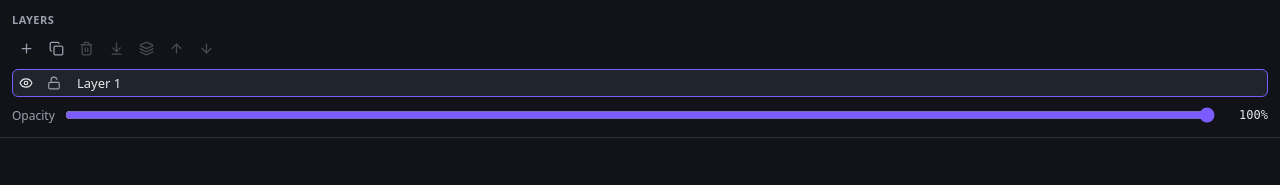
Test case: LayersPanel › disables actions that do not apply
Expected: the button named "Delete layer" is disabled, 72,35 -> 100,61
Expected: the button named "Merge down" is disabled, 102,35 -> 130,61
Click the button named "New layer": (26,48) 12,35 -> 40,61
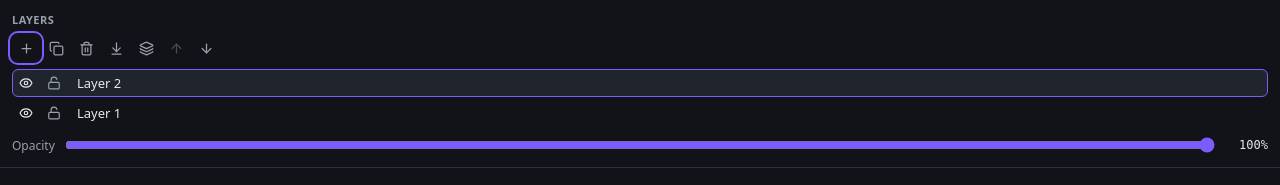
Expected: the button named "Move layer up" is disabled, 162,35 -> 190,61
Expected: the button named "Merge down" is enabled, 102,35 -> 130,61
Expected: the button named "Move layer down" is enabled, 192,35 -> 220,61
